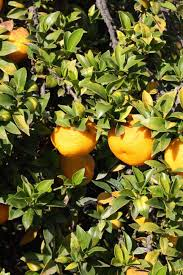orange: (106, 111, 155, 166), (50, 107, 101, 156), (2, 22, 36, 68), (59, 150, 99, 188)
